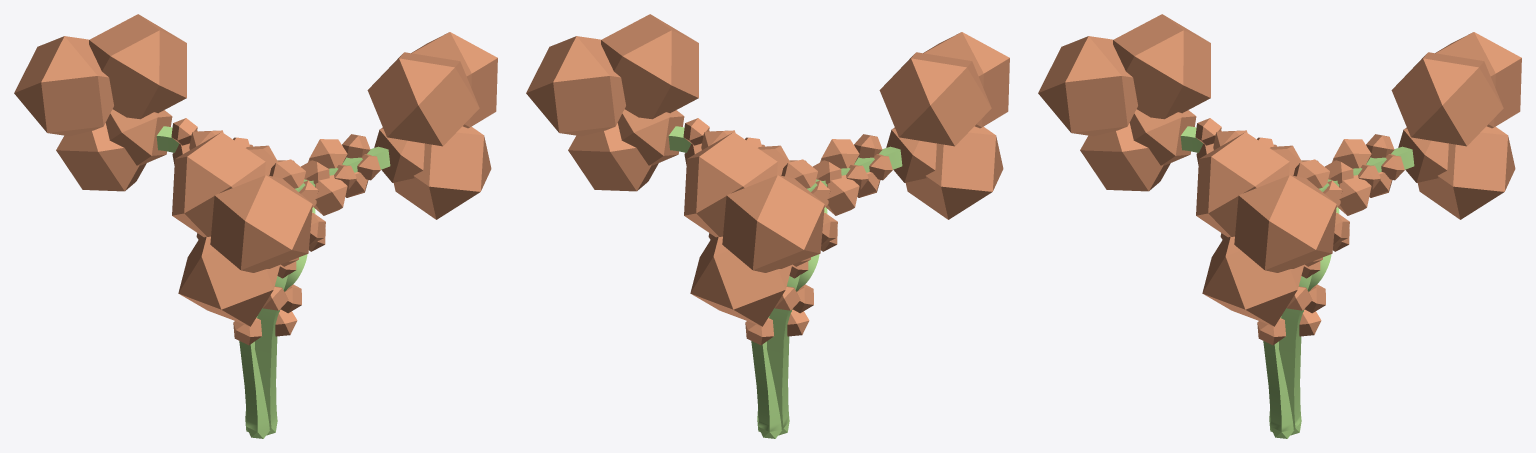
File: abstracttree1.fbx
3 renders of one model, left to right at view 1: azimuth 30°, elevation 25°; view 2: azimuth 150°, elevation 25°; view 3: azimuth 270°, elevation 25°, orthographic.
Visible parts, largest first — view 1: abstracttree2; view 2: abstracttree2; view 3: abstracttree2.
Boxes of the visible parts, x1,y1,x2,y2 form: abstracttree2: [14, 14, 497, 438]; abstracttree2: [526, 14, 1009, 438]; abstracttree2: [1038, 14, 1521, 438].
Bounding box in the file's own units: 163 × 148 × 179.
